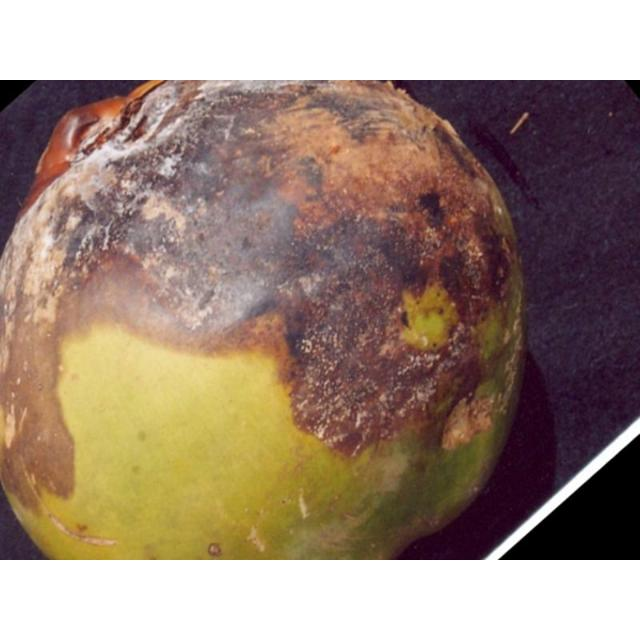damaged: (0, 80, 530, 559)
